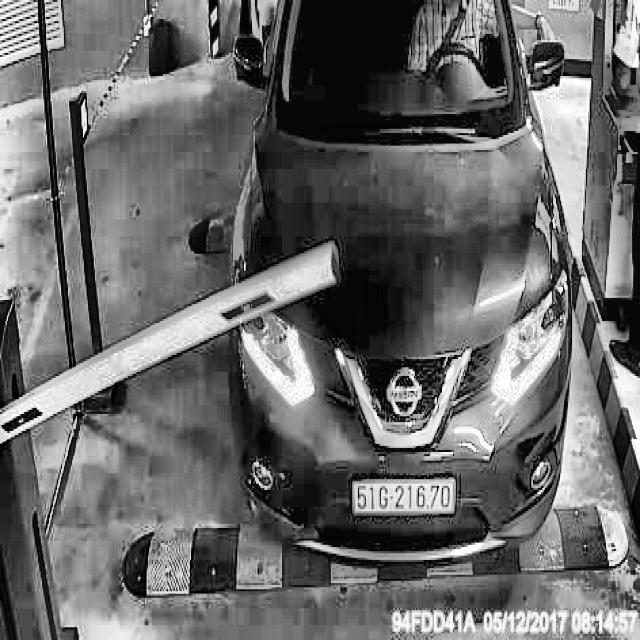plate: (349, 470, 460, 521)
